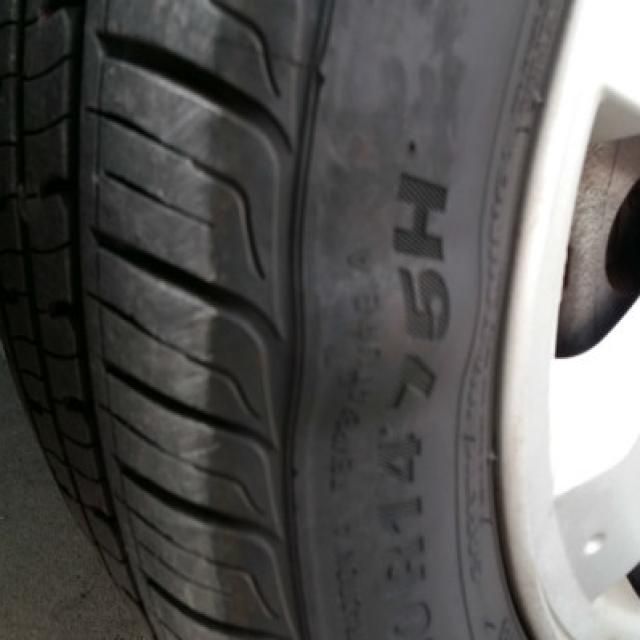Bulge: (270, 198, 472, 447)
